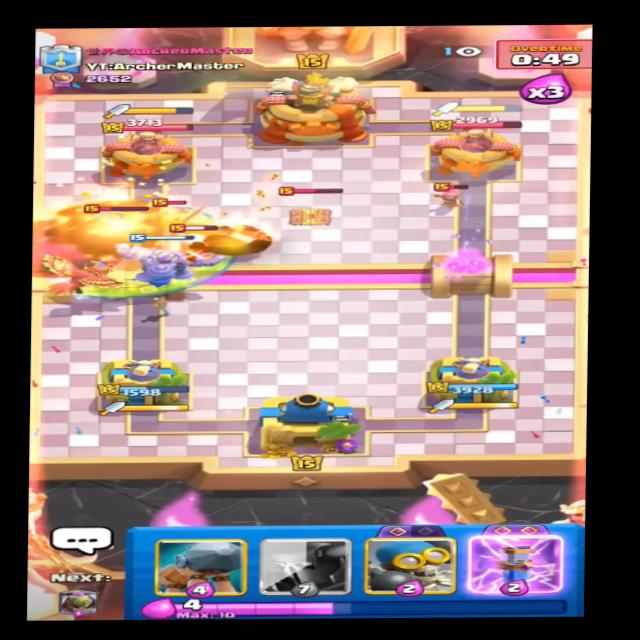Archer: (427, 180, 470, 210), (158, 201, 195, 225)
Teslahidden: (279, 187, 349, 229)
